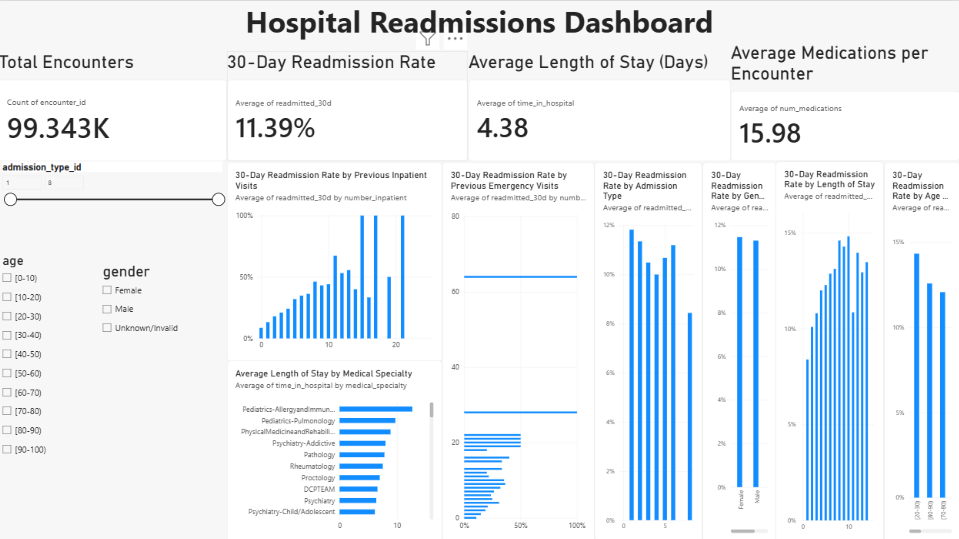

Layout of this report page (visuals, bound fields, positions):
{"tool":"powerbi","page":{"name":"Page 1","canvas":[1920,1080],"ordinal":0},"visuals":[{"type":"cardVisual","title":"Total Encounters","fields":{"Data":["CountNonNull(public encounters.encounter_id)"]},"box":[0,100,456,220],"z":0},{"type":"cardVisual","title":"30-Day Readmission Rate","fields":{"Data":["Avg(public encounters.readmitted_30d)"]},"box":[456,100,482,220],"z":1},{"type":"cardVisual","title":"Average Length of Stay (Days)","fields":{"Data":["Avg(public encounters.time_in_hospital)"]},"box":[938,100,524,220],"z":2},{"type":"cardVisual","title":"Average Medications per Encounter","fields":{"Data":["Avg(public encounters.num_medications)"]},"box":[1462,82,458,238],"z":3},{"type":"clusteredColumnChart","title":"30-Day Readmission Rate by Admission Type","fields":{"Category":["public encounters.admission_type_id"],"Y":["Avg(public encounters.readmitted_30d)"]},"box":[1190,322.5,215,757.5],"z":4},{"type":"clusteredColumnChart","title":"30-Day Readmission Rate by Gender","fields":{"Category":["public encounters.gender"],"Y":["Avg(public encounters.readmitted_30d)"]},"box":[1405,322.5,147.5,757.5],"z":5},{"type":"clusteredColumnChart","title":"30-Day Readmission Rate by Length of Stay","fields":{"Category":["public encounters.time_in_hospital"],"Y":["Avg(public encounters.readmitted_30d)"]},"box":[1552.5,320,215,760],"z":6},{"type":"clusteredColumnChart","title":"30-Day Readmission Rate by Age Group","fields":{"Category":["public encounters.age"],"Y":["Avg(public encounters.readmitted_30d)"]},"box":[1767.5,322.5,152.5,757.5],"z":7},{"type":"clusteredColumnChart","title":"30-Day Readmission Rate by Previous Inpatient Visits","fields":{"Category":["public encounters.number_inpatient"],"Y":["Avg(public encounters.readmitted_30d)"]},"box":[455,322.5,430,397.5],"z":8},{"type":"clusteredBarChart","title":"30-Day Readmission Rate by Previous Emergency Visits","fields":{"Category":["public encounters.number_emergency"],"Y":["Avg(public encounters.readmitted_30d)"]},"box":[886,322,304,758],"z":9},{"type":"clusteredBarChart","title":"Average Length of Stay by Medical Specialty","fields":{"Category":["public encounters.medical_specialty"],"Y":["Avg(public encounters.time_in_hospital)"]},"box":[455,717.5,430,362.5],"z":10},{"type":"slicer","fields":{"Values":["public encounters.age"]},"box":[0,502.5,200,577.5],"z":11},{"type":"slicer","fields":{"Values":["public encounters.admission_type_id"]},"box":[0,320,455,182.5],"z":12},{"type":"slicer","fields":{"Values":["public encounters.gender"]},"box":[200,522.5,254.7,540.8],"z":13},{"type":"textbox","box":[0,0,1920,82],"z":14}]}

Visuals, with their boxes in screenshot pixels (x1, y1, x2, y2), scaled from the page's 1920x1080 canvas onto the 959x539 screenshot:
"Total Encounters" cardVisual: box=[0, 50, 228, 160]
"30-Day Readmission Rate" cardVisual: box=[228, 50, 469, 160]
"Average Length of Stay (Days)" cardVisual: box=[469, 50, 730, 160]
"Average Medications per Encounter" cardVisual: box=[730, 41, 958, 160]
"30-Day Readmission Rate by Admission Type" clusteredColumnChart: box=[594, 161, 702, 538]
"30-Day Readmission Rate by Gender" clusteredColumnChart: box=[702, 161, 775, 538]
"30-Day Readmission Rate by Length of Stay" clusteredColumnChart: box=[775, 160, 883, 538]
"30-Day Readmission Rate by Age Group" clusteredColumnChart: box=[883, 161, 958, 538]
"30-Day Readmission Rate by Previous Inpatient Visits" clusteredColumnChart: box=[227, 161, 442, 359]
"30-Day Readmission Rate by Previous Emergency Visits" clusteredBarChart: box=[443, 161, 594, 538]
"Average Length of Stay by Medical Specialty" clusteredBarChart: box=[227, 358, 442, 538]
slicer - public encounters.age: box=[0, 251, 100, 538]
slicer - public encounters.admission_type_id: box=[0, 160, 227, 251]
slicer - public encounters.gender: box=[100, 261, 227, 531]
textbox: box=[0, 0, 958, 41]
